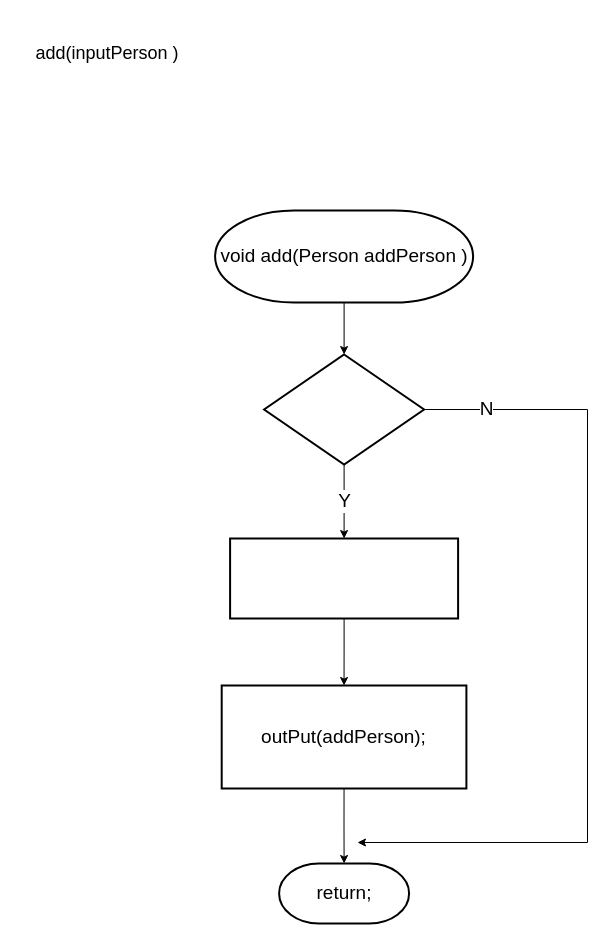
Some shapes in this 613 by 941 pixel diagram are drawn without their labels. The shapes that lost their labels are listed below. From the top down, each one's centre as x and y in pixels, then its label:
point (344, 409): errorStatus == 0
point (344, 578): v.add( addPerson );
